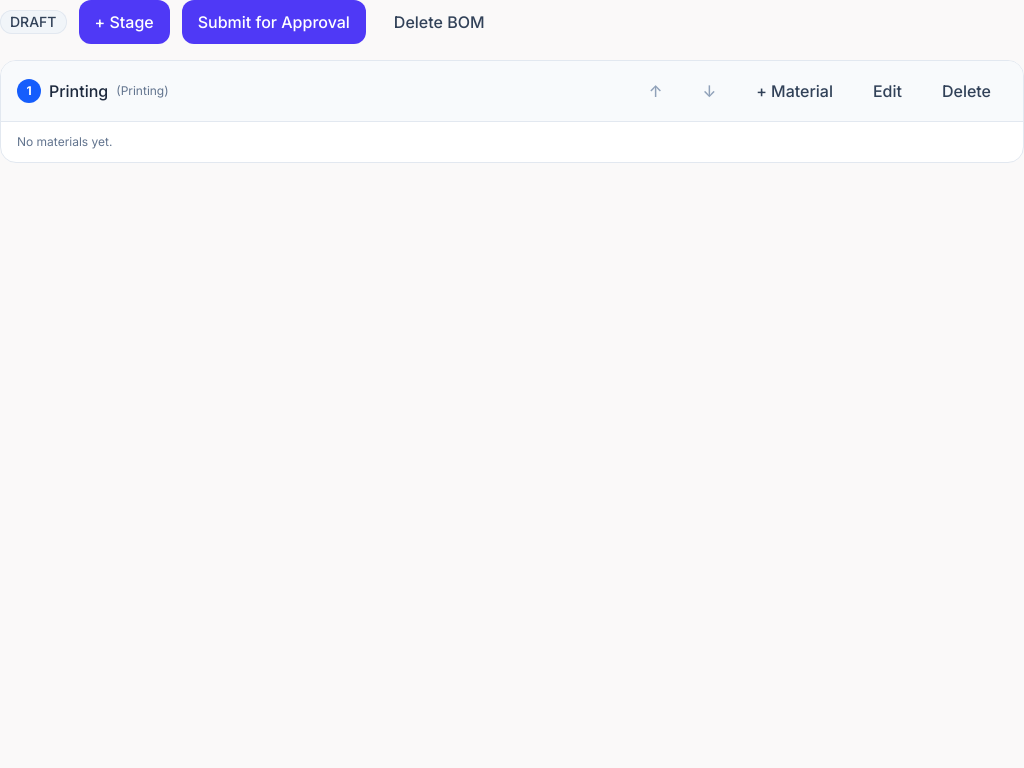
Test: R2-70 BOM stage picker › falls back to free text when there are no master processes
The width and height of the screenshot is (1024, 768).
Click the button "+ Stage".
click(124, 22)  # box [78,0,170,44]
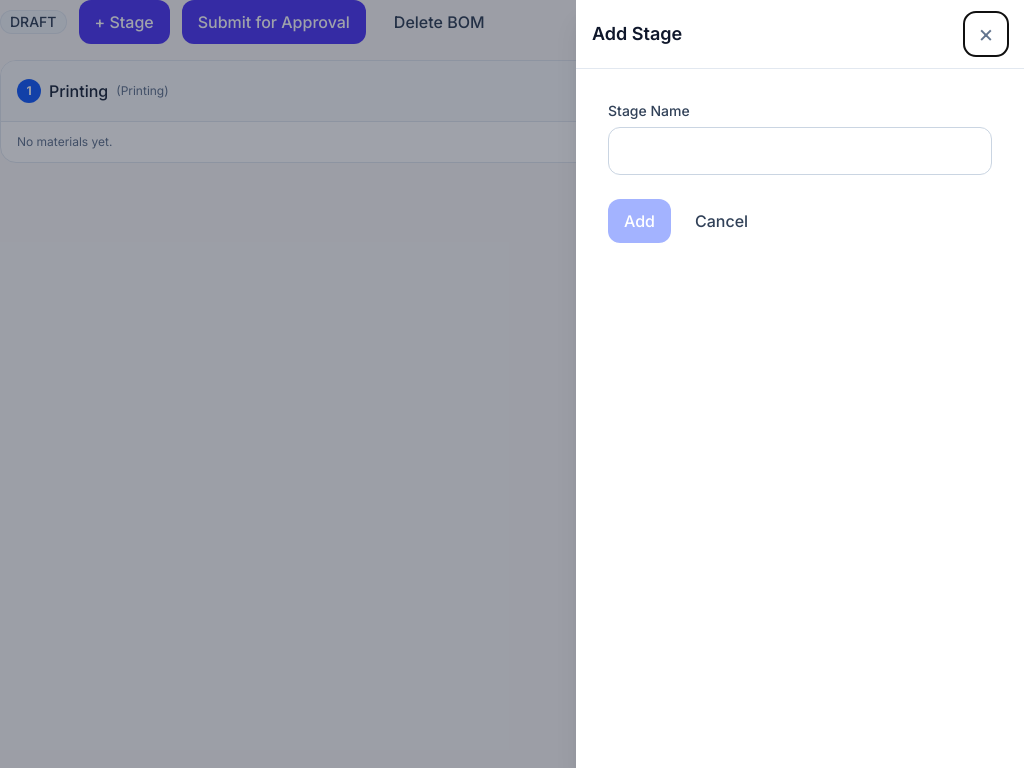
Result: the field labelled "Stage Name" is shown at [608,127,992,175]
